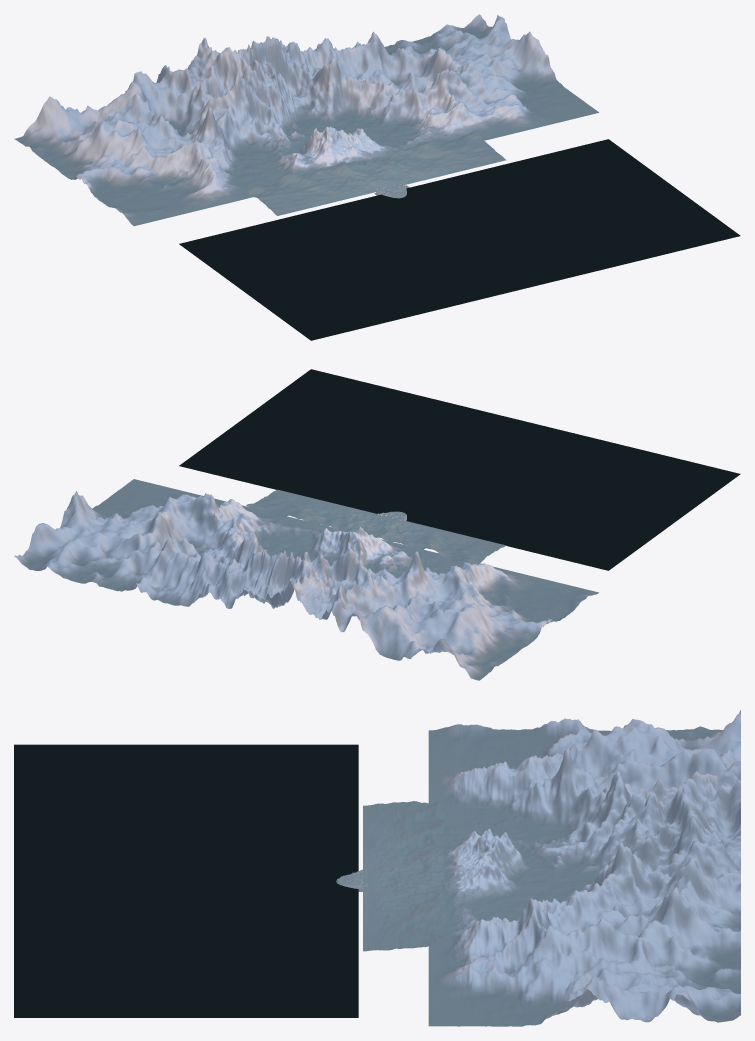
Rendered from halcyon.glb.
3 renders of one model, top to bottom at view 1: azimuth 30°, elevation 25°; view 2: azimuth 150°, elevation 25°; view 3: azimuth 270°, elevation 25°, orthographic. The views are drawn at different scales.
Parts seen in each view (by area): view 1: V_Far, W_Lake; view 2: V_Far, W_Lake; view 3: V_Far, W_Lake.
Boxes of the visible parts, x1,y1,x2,y2 form: V_Far: (14, 14, 598, 226); W_Lake: (179, 139, 740, 340); V_Far: (14, 479, 598, 680); W_Lake: (179, 369, 740, 570); V_Far: (363, 710, 740, 1026); W_Lake: (14, 744, 358, 1017).
Bounding box in the file's own units: 13000 × 1712 × 13500.
